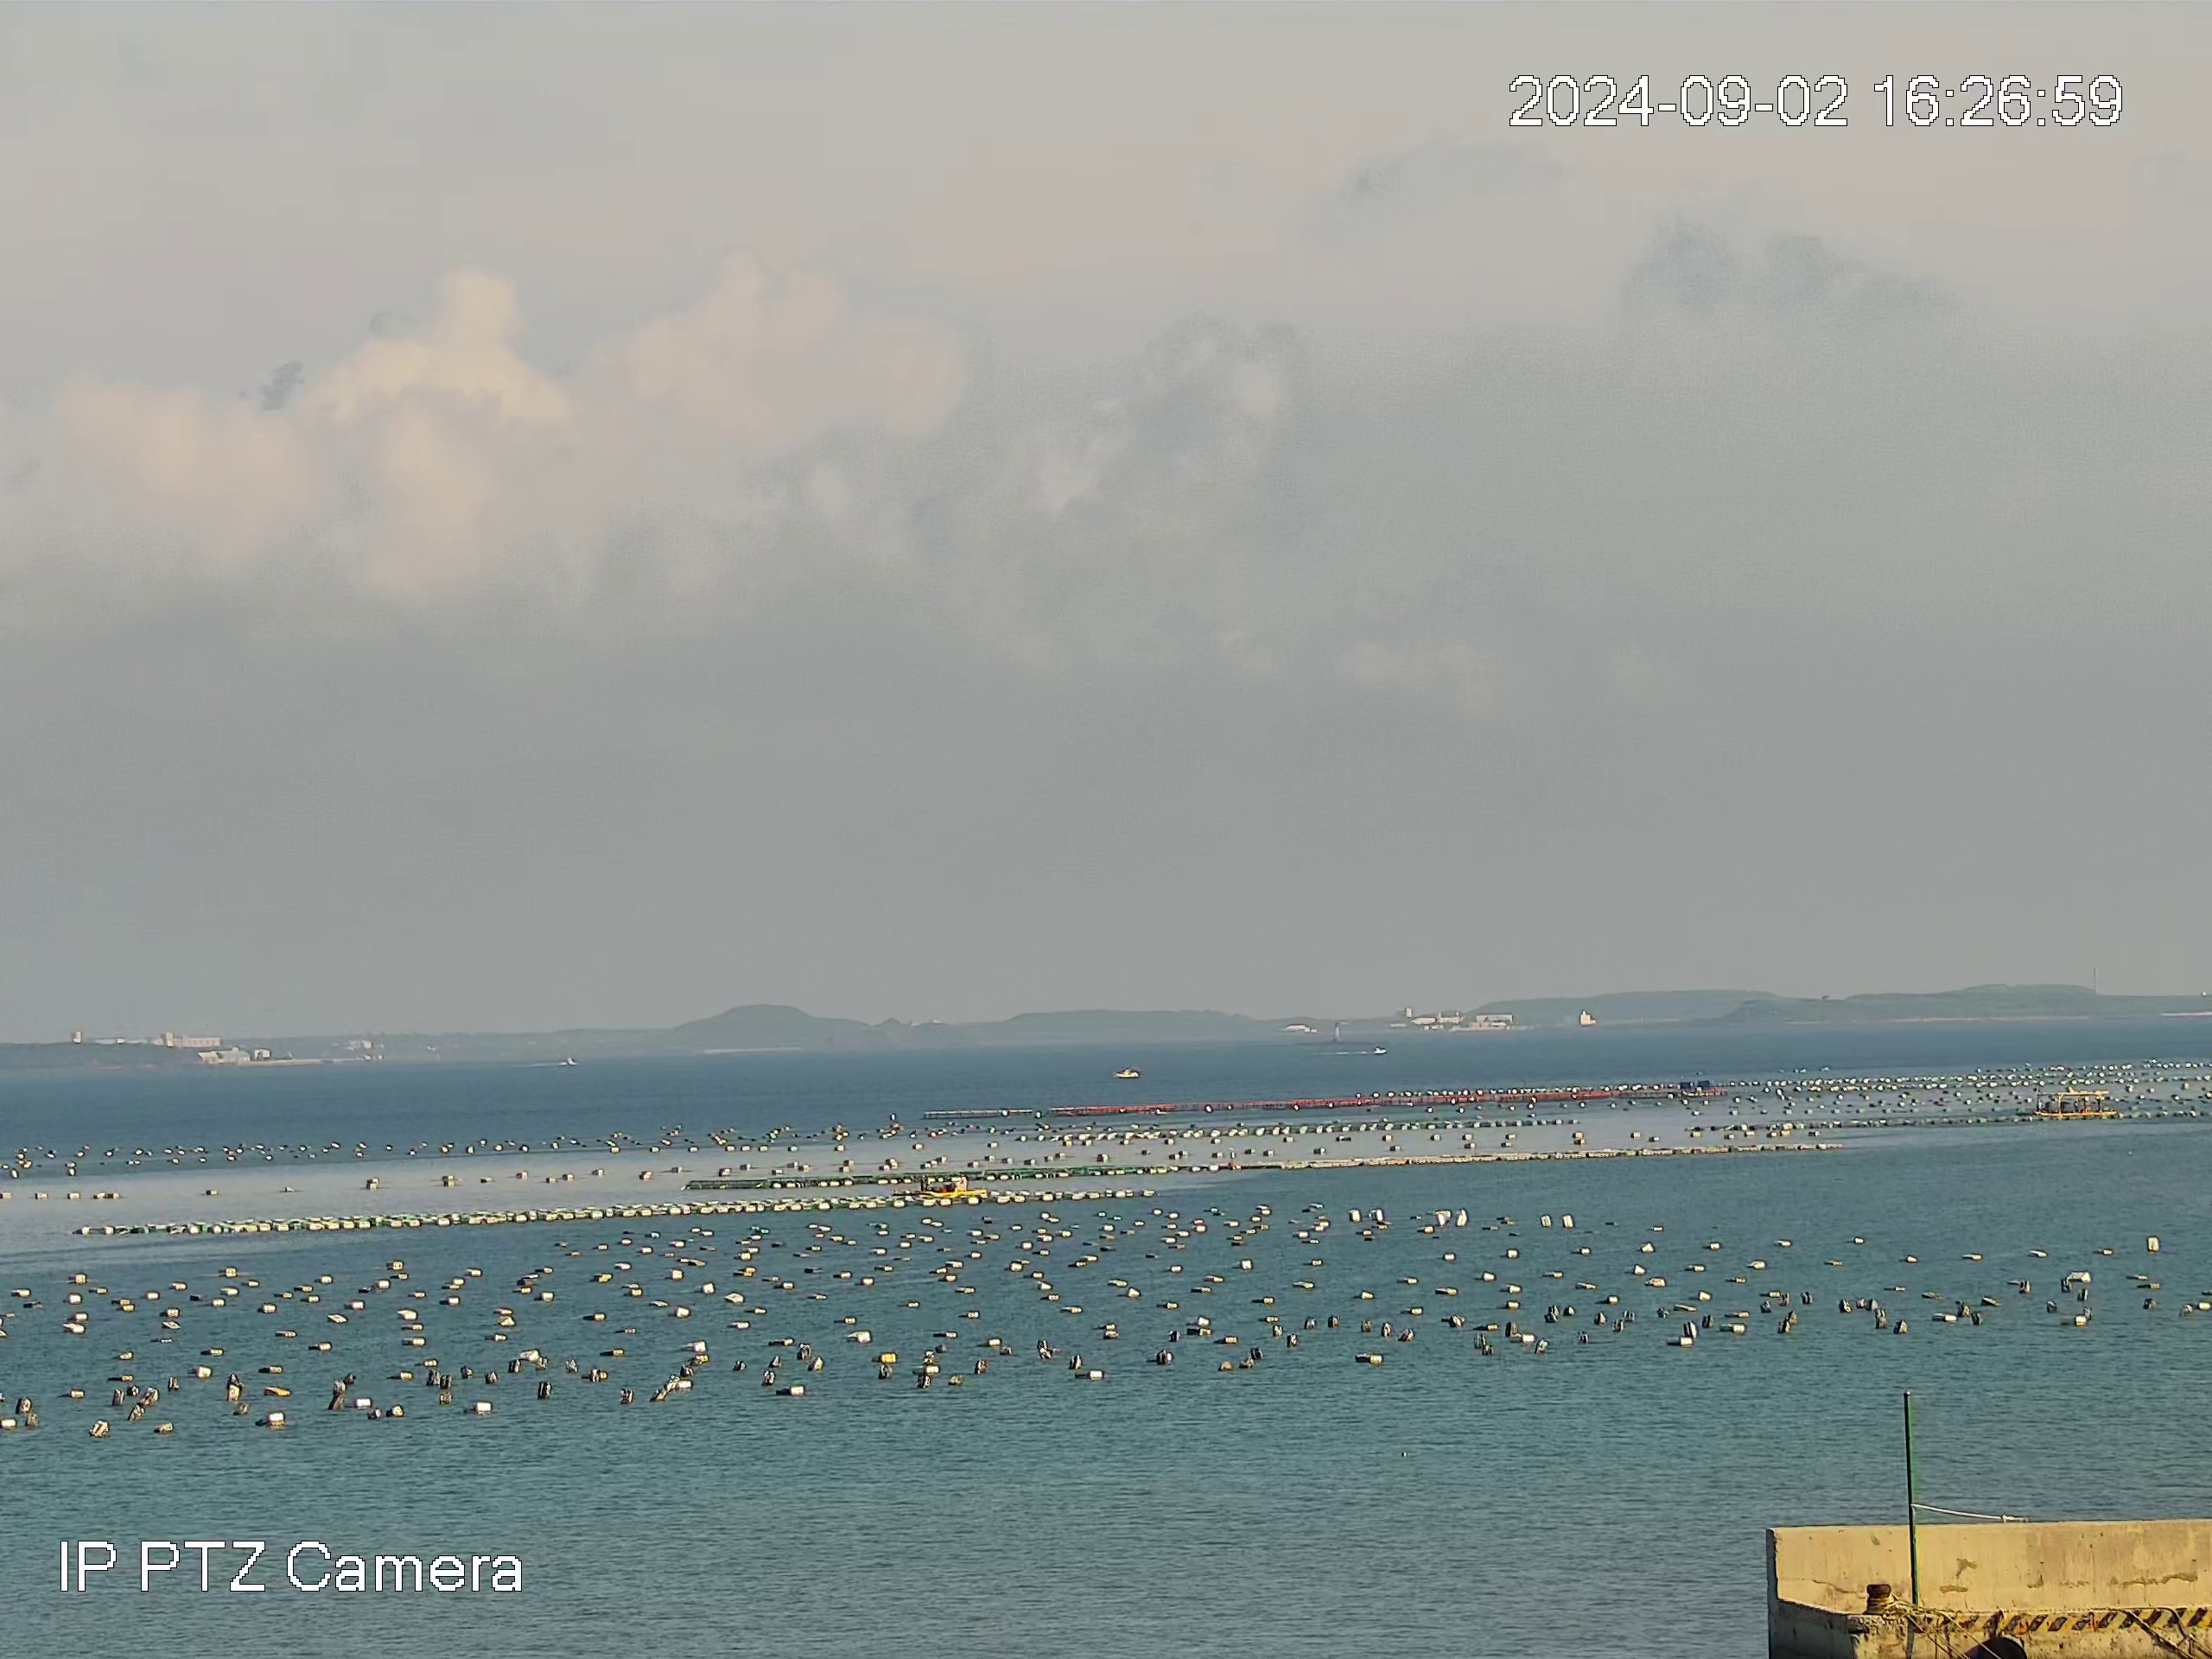boat: (2031, 1089, 2118, 1119), (913, 1173, 989, 1197), (1111, 1066, 1139, 1079)
